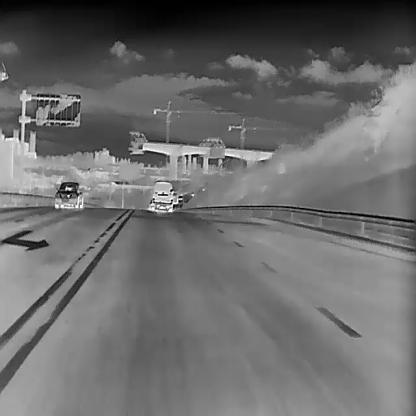car: (54, 180, 82, 210), (149, 180, 173, 212)
